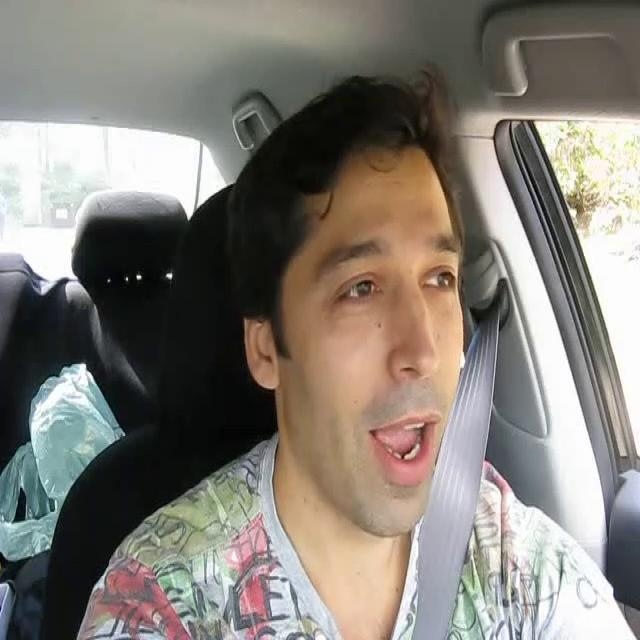open-mouth: (363, 406, 443, 489)
